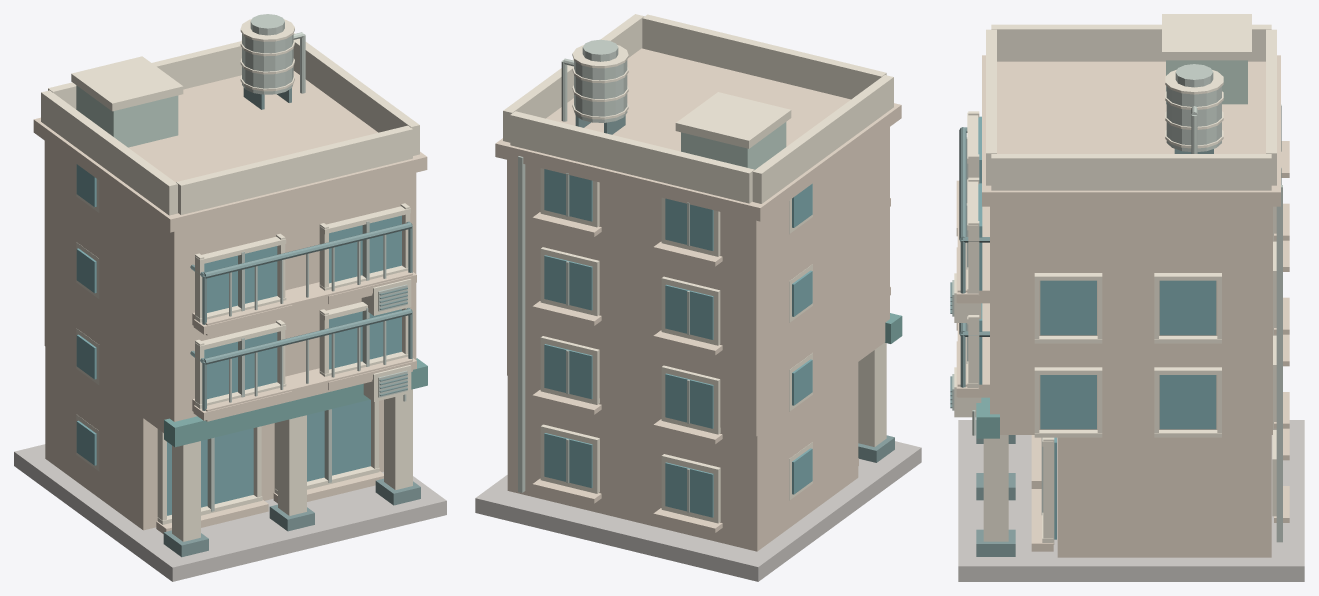
File: town-shophouse-1.glb
3 renders of one model, left to right at view 1: azimuth 30°, elevation 25°; view 2: azimuth 150°, elevation 25°; view 3: azimuth 270°, elevation 25°, orthographic. The views are drawn at different scales.
Parts seen in each view (by area): view 1: paving; view 2: paving; view 3: paving.
Boxes of the visible parts, <box> form: paving: <box>14,14,446,581</box>; paving: <box>475,14,921,581</box>; paving: <box>950,14,1304,581</box>.
Bounding box in the file's own units: 2.2 × 3.31 × 2.25.
1 material, 1 textured.
